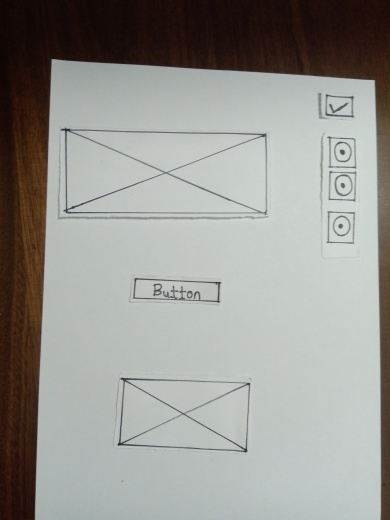button: (136, 282, 225, 303)
checkbox: (326, 95, 352, 115)
dropdown: (327, 137, 354, 168), (328, 213, 355, 244), (327, 169, 354, 200)
img: (68, 129, 267, 216), (118, 381, 249, 452)
